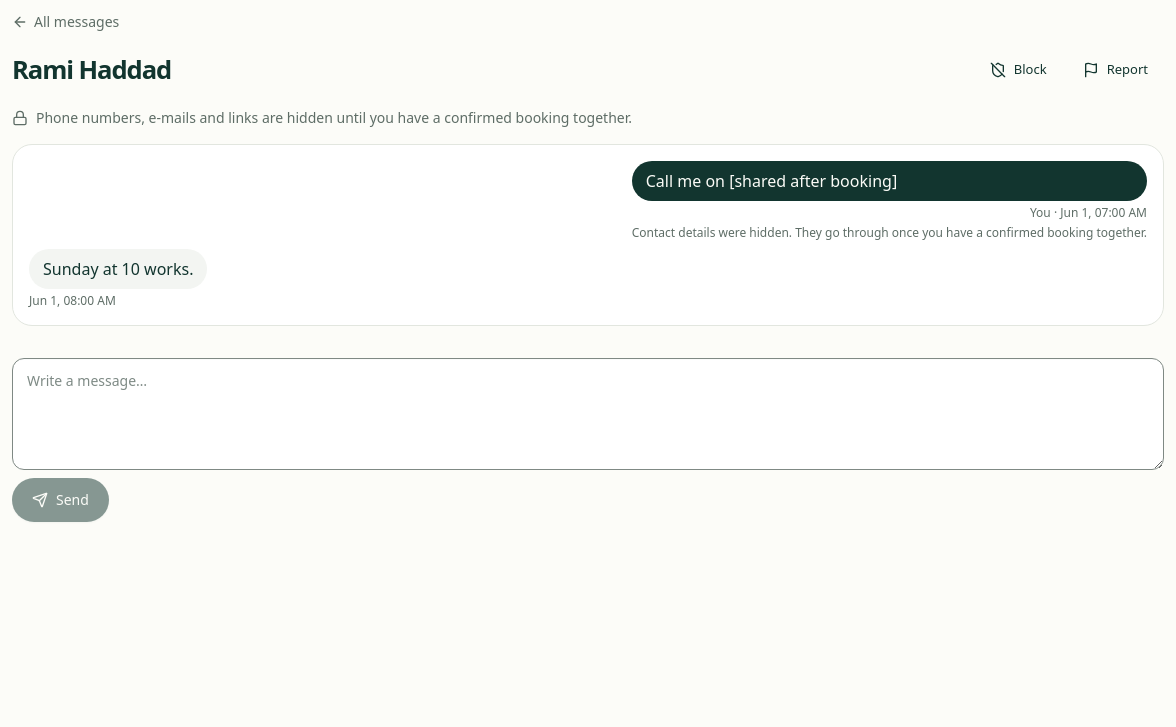
Test: messages between travellers and guides › closes a conversation with a report
Click the button "Report" at (1115, 70), box [1067, 48, 1164, 92]
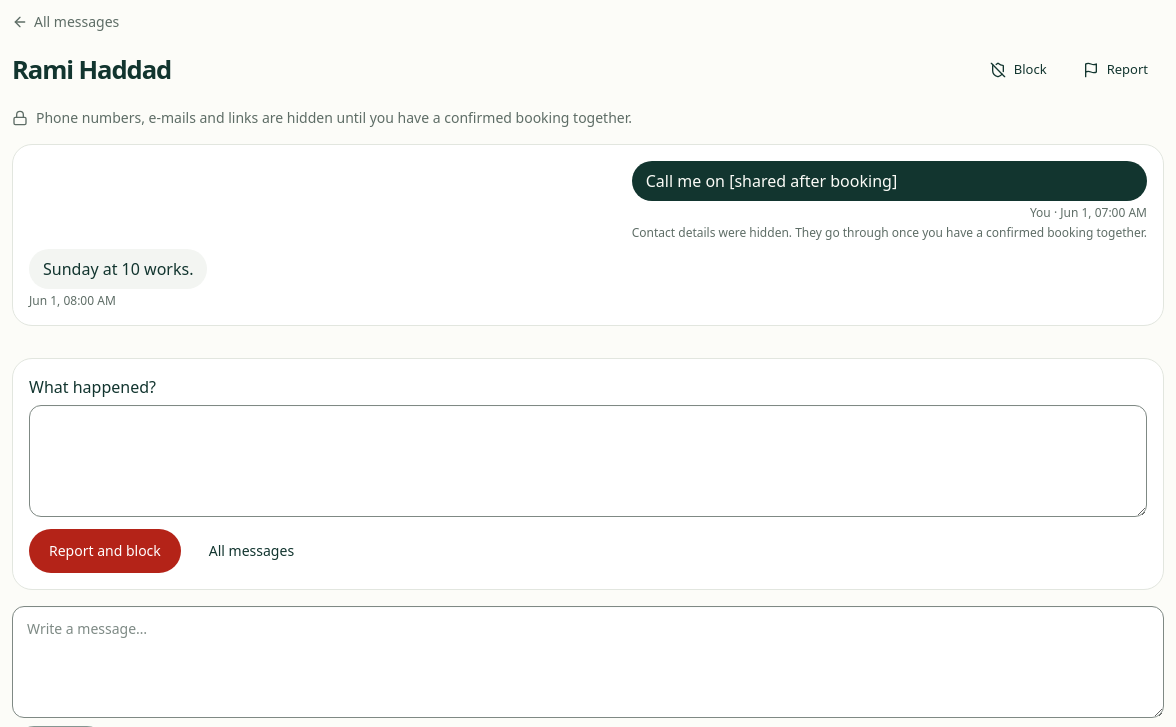
Type "Rude" into the text box labelled "What happened?" at (588, 461), box [29, 405, 1147, 517]
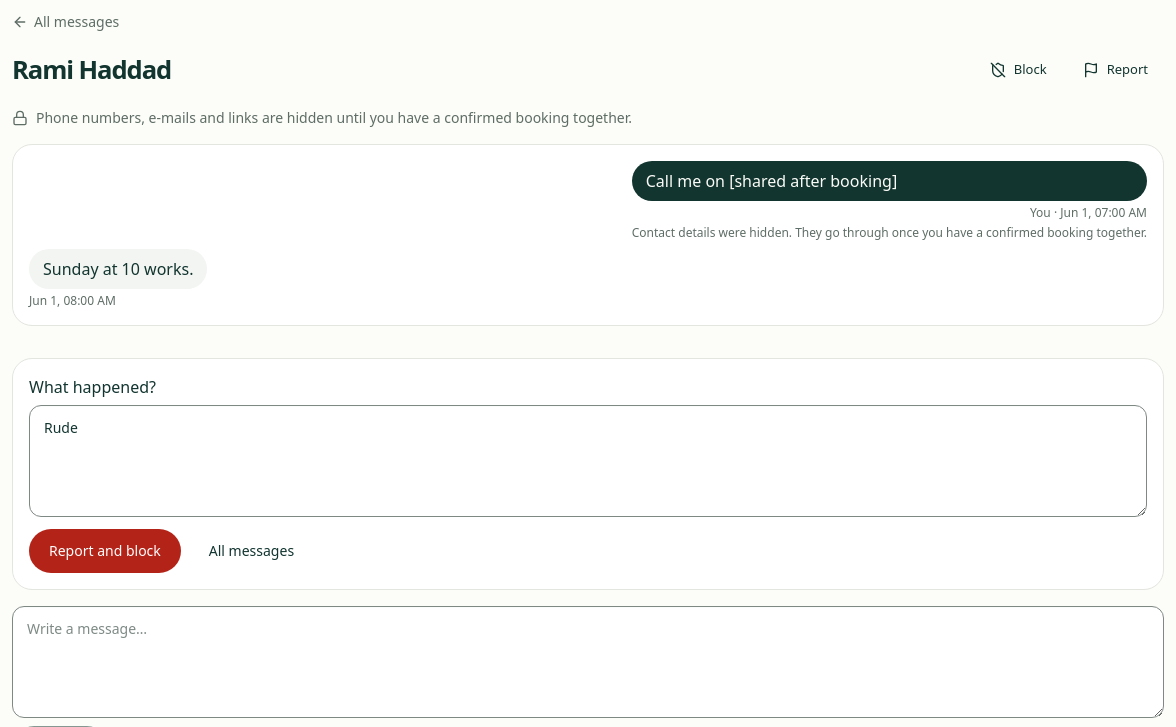
Click the button "Report and block" at (105, 551), box [29, 529, 181, 573]
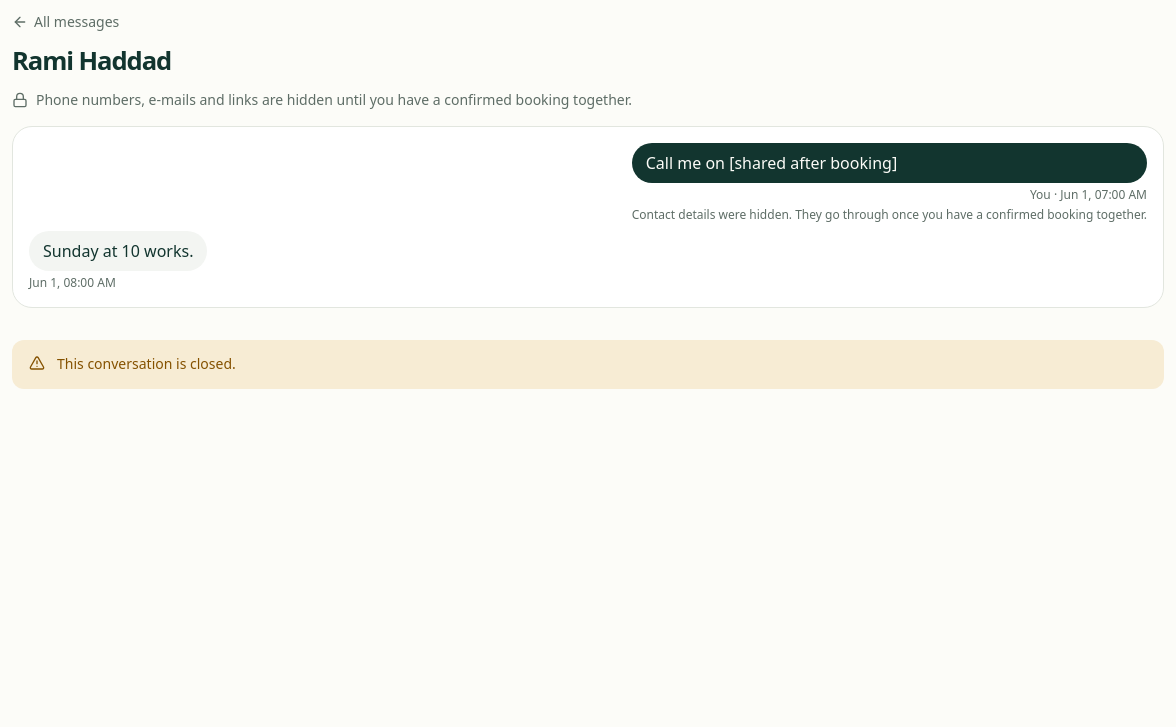
Result: the text "This conversation is closed." is shown at [57, 354, 236, 373]
